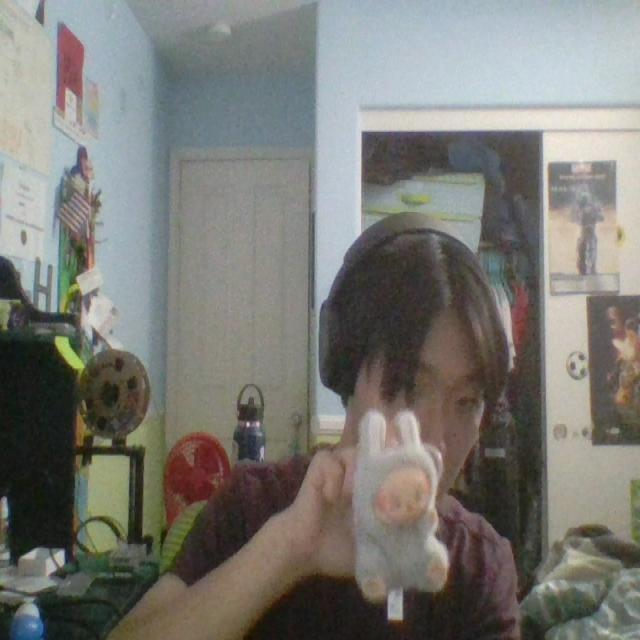labubu: (353, 409, 448, 599)
